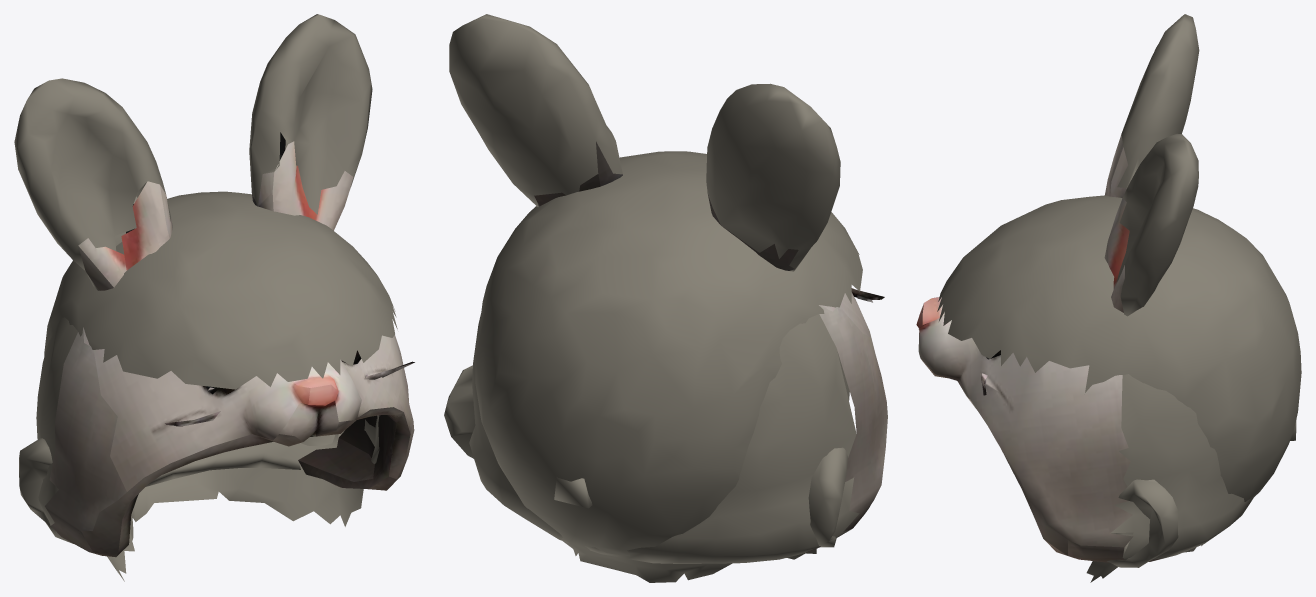
Rendered from rabbit.glb.
The picture shows the model from 3 angles, left to right: view 1: azimuth 30°, elevation 25°; view 2: azimuth 150°, elevation 25°; view 3: azimuth 270°, elevation 25°; orthographic projection. The views are drawn at different scales.
Parts seen in each view (by area): view 1: geometry_0, HoodAnatomicalLining; view 2: HoodAnatomicalLining, geometry_0; view 3: HoodAnatomicalLining, geometry_0.
Part boxes in pixels (x1,y1,x2,y2): geometry_0: [14, 14, 414, 557]; HoodAnatomicalLining: [19, 191, 397, 581]; HoodAnatomicalLining: [444, 151, 862, 582]; geometry_0: [449, 14, 887, 563]; HoodAnatomicalLining: [937, 195, 1301, 582]; geometry_0: [916, 14, 1296, 562].
Bounding box in the file's own units: 0.4733 × 0.5949 × 0.4585.
2 materials, 1 textured.
